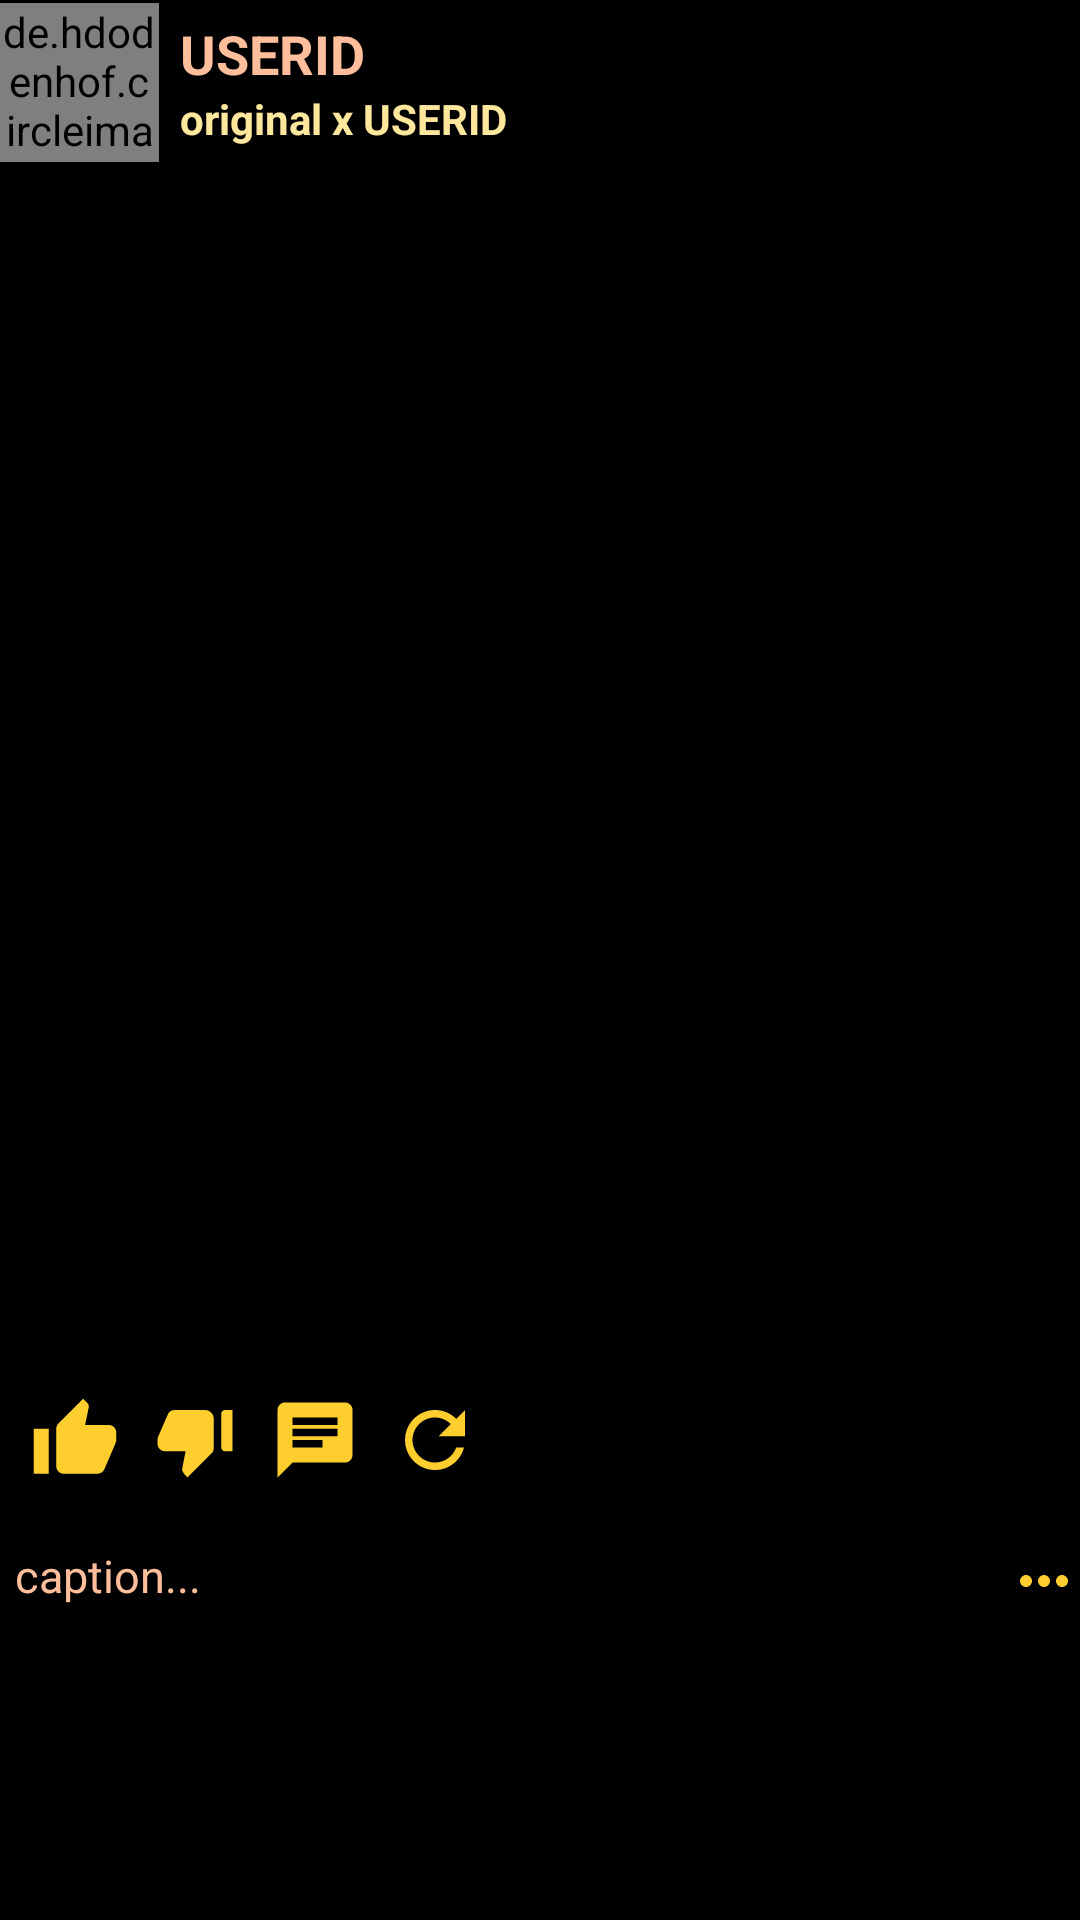

Icons on this 1080 × 1920 Android screen, each with its box as bbox=[x1, y1, x2, y2]:
chat: bbox=[277, 1402, 353, 1478]
more horiz: bbox=[1020, 1575, 1068, 1587]
refresh: bbox=[405, 1410, 465, 1470]
thumb down: bbox=[157, 1410, 233, 1478]
thumb up: bbox=[33, 1399, 117, 1474]
